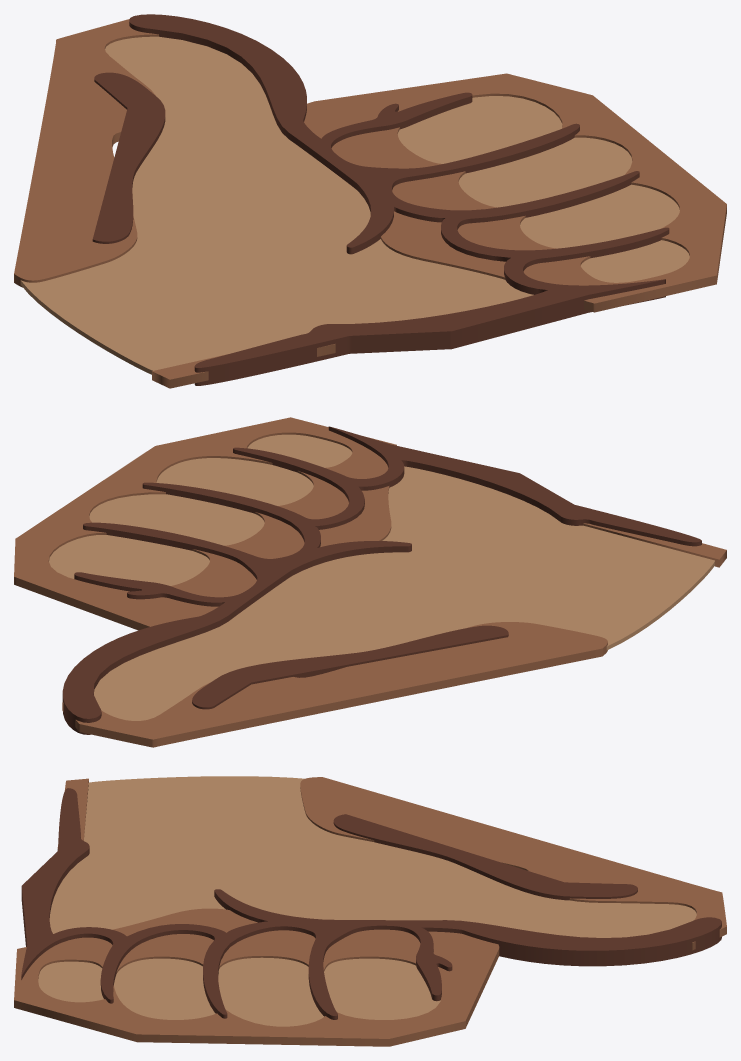
File: emoji_u1f44d_1f3fd.glb
3 views of the same model, one above another, from view 1: azimuth 30°, elevation 25°; view 2: azimuth 150°, elevation 25°; view 3: azimuth 270°, elevation 25° (orthographic). The views are drawn at different scales.
Parts seen in each view (by area): view 1: emoji_u1f44d_1f3fd; view 2: emoji_u1f44d_1f3fd; view 3: emoji_u1f44d_1f3fd.
Boxes of the visible parts, x1,y1,x2,y2 form: emoji_u1f44d_1f3fd: (14,14,726,388); emoji_u1f44d_1f3fd: (14,417,726,747); emoji_u1f44d_1f3fd: (14,776,726,1046).
Bounding box in the file's own units: 0.0292 × 0.0008 × 0.0332.
